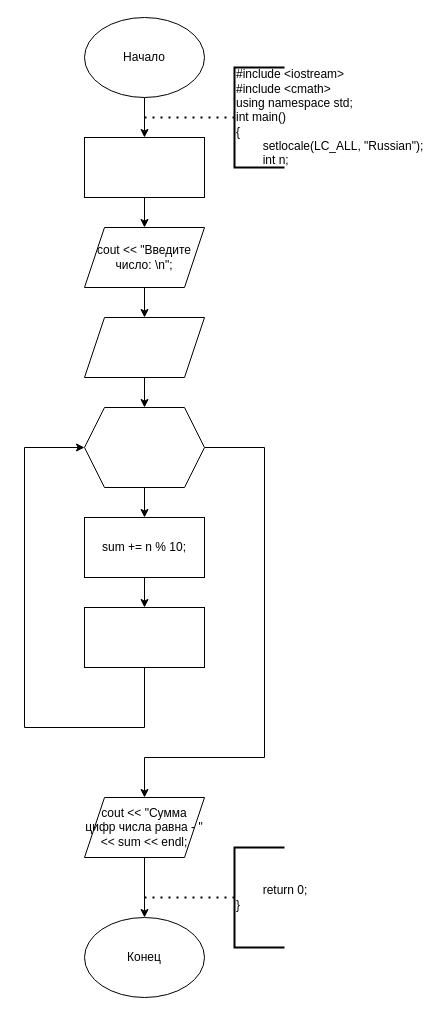
Image size: 441x1015. Some labels were removed from this diagram. Each missing label, with the centre of its shape:
cin >> n;: pixel 144 347
int sum = 0;: pixel 144 167
n /= 10;: pixel 144 637
while (n > 0): pixel 144 447
